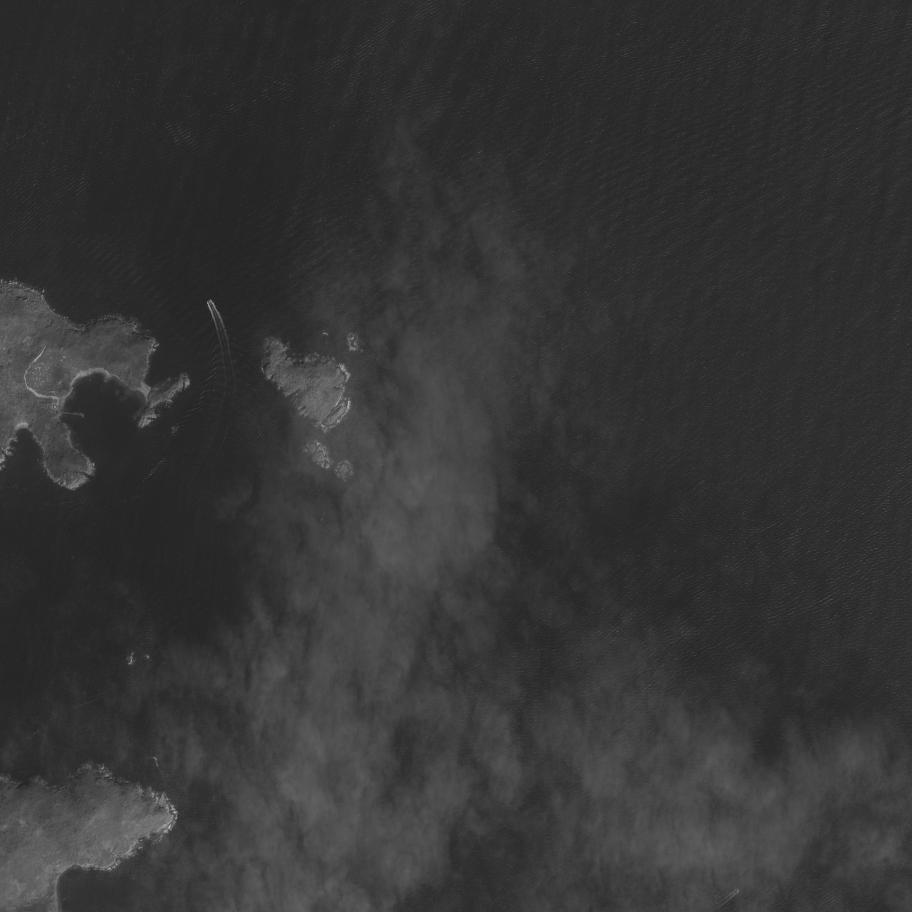ship: (734, 887, 740, 894), (208, 300, 212, 305)
